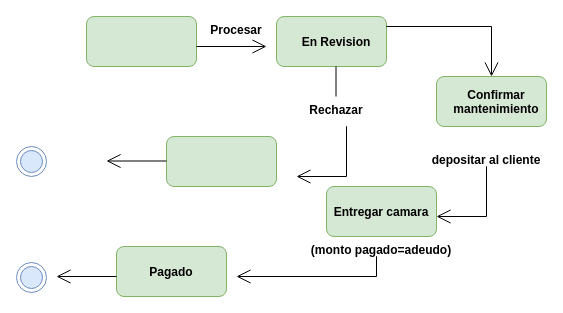
Some shapes in this 563 by 313 pixel diagram are drawn without their labels. Here are the shapes that lost their labels. From the top down, the centre of each, then its label:
At (x=141, y=41): "Solicitar Mantenimiento".
At (x=221, y=161): "Cancelar mantenimiento".
